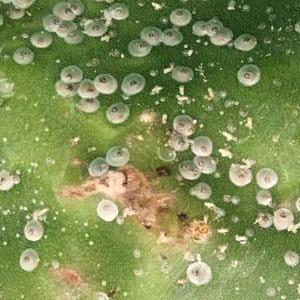Femea: (195, 19, 219, 36), (44, 16, 71, 30), (59, 1, 81, 18), (122, 75, 144, 91), (19, 253, 37, 271), (96, 73, 115, 90), (187, 266, 209, 280), (240, 67, 257, 85), (59, 68, 79, 83), (107, 5, 128, 18), (34, 30, 51, 46), (194, 139, 211, 155), (86, 22, 105, 36), (56, 83, 77, 95), (171, 8, 189, 22), (174, 117, 193, 130), (105, 103, 121, 118), (79, 97, 96, 111), (25, 224, 40, 239), (140, 28, 156, 42), (175, 65, 191, 79), (236, 33, 252, 46), (63, 27, 79, 40), (131, 40, 148, 52), (163, 28, 180, 40), (80, 83, 96, 95), (15, 49, 30, 60)
Macho: (218, 129, 235, 141), (217, 146, 232, 158), (150, 0, 163, 10), (176, 83, 186, 96), (205, 85, 214, 99), (161, 66, 173, 74)
